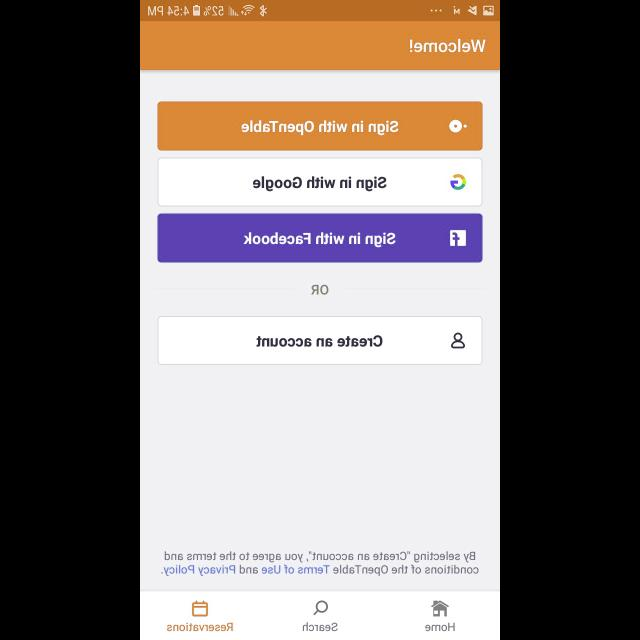icon: (312, 600, 328, 616), (192, 600, 208, 616)
image: (431, 600, 449, 616)
text: (161, 552, 479, 576), (409, 39, 485, 53), (167, 622, 233, 632), (302, 621, 338, 631), (425, 622, 455, 632), (311, 284, 329, 296)
textbutton: (158, 102, 482, 152), (158, 316, 482, 366), (158, 158, 482, 206), (158, 214, 482, 262)
uppertaskbar: (140, 1, 500, 22)
